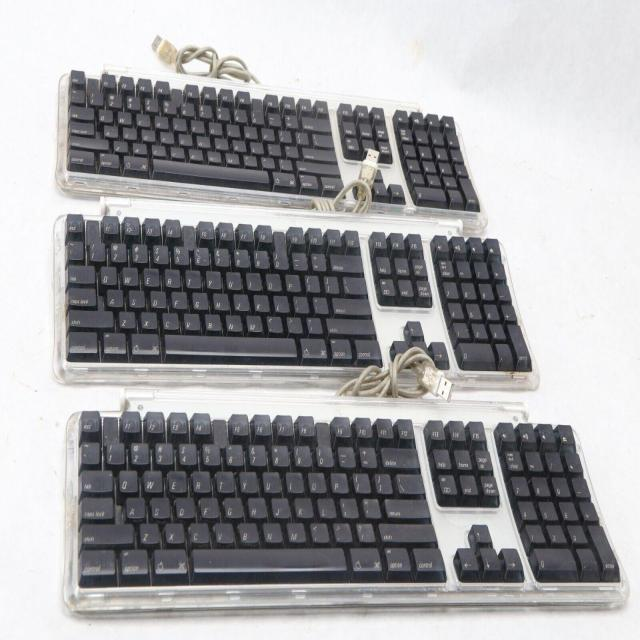keyboard: (70, 409, 627, 597), (59, 212, 539, 377), (61, 68, 487, 221)
